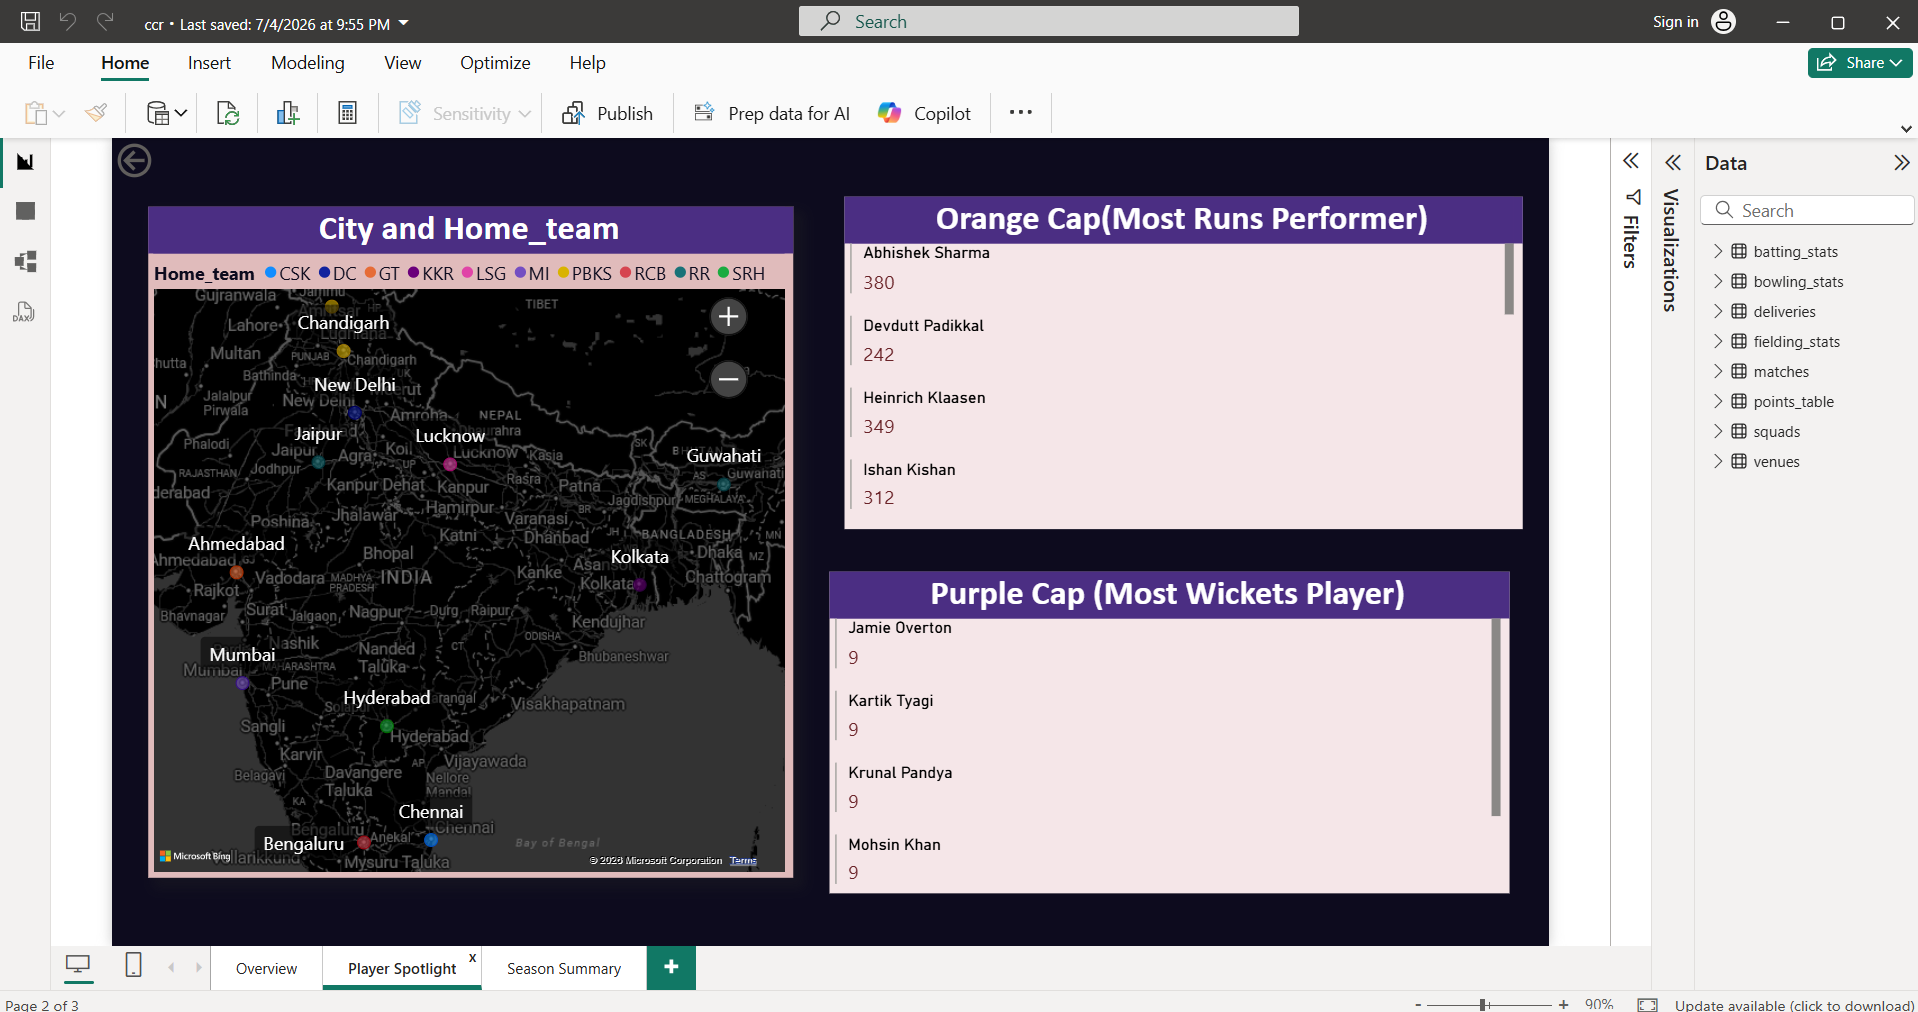

Layout of this report page (visuals, bound fields, positions):
{"tool":"powerbi","page":{"name":"Player Spotlight","canvas":[1280,720],"ordinal":1},"visuals":[{"type":"map","title":"City and Home_team","fields":{"Series":["venues.home_team"],"Category":["venues.city"]},"box":[32.4,61.6,574.7,597.8],"z":0},{"type":"actionButton","box":[0,0,100,40],"z":1000},{"type":"multiRowCard","title":"Orange Cap(Most Runs Performer)","fields":{"Values":["batting_stats.batsman","Sum(batting_stats.runs)"]},"box":[652.6,52.4,604.1,296.2],"z":3000},{"type":"multiRowCard","title":" Purple Cap (Most Wickets Player)","fields":{"Values":["bowling_stats.bowler","Sum(bowling_stats.wickets)"]},"box":[639.4,386.7,605.5,286.6],"z":4000}]}

Visuals, with their boxes on the page's 1280x720 design canvas (x1, y1, x2, y2). These are canvas units, not pixel positions in the 1918x1012 screenshot, which may show the page scaled, cropped or inside an application window:
"City and Home_team" map: x1=32, y1=62, x2=607, y2=659
actionButton: x1=0, y1=0, x2=100, y2=40
"Orange Cap(Most Runs Performer)" multiRowCard: x1=653, y1=52, x2=1257, y2=349
" Purple Cap (Most Wickets Player)" multiRowCard: x1=639, y1=387, x2=1245, y2=673
